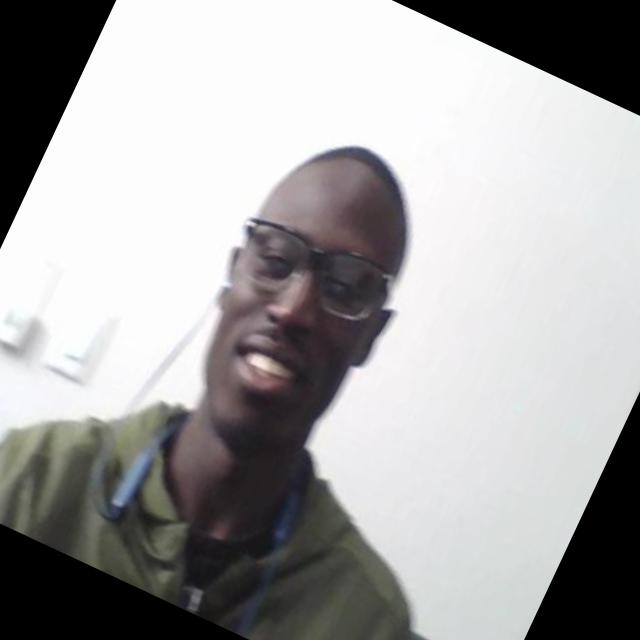bareface: (171, 128, 461, 458)
